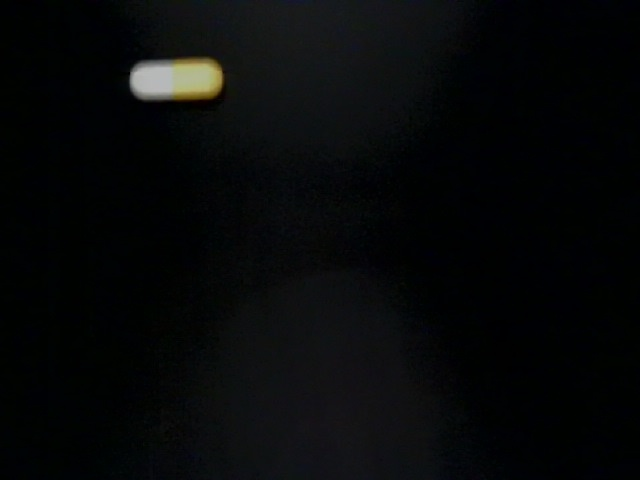YHLJ: (291, 141, 403, 213)
